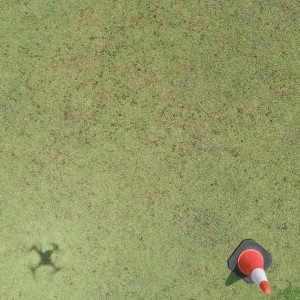traffic cone: (228, 239, 272, 293)
